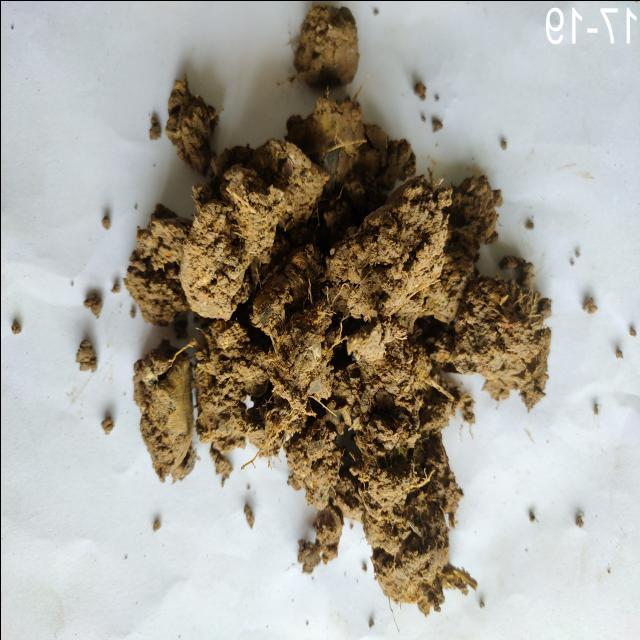soil: (223, 188, 432, 522)
